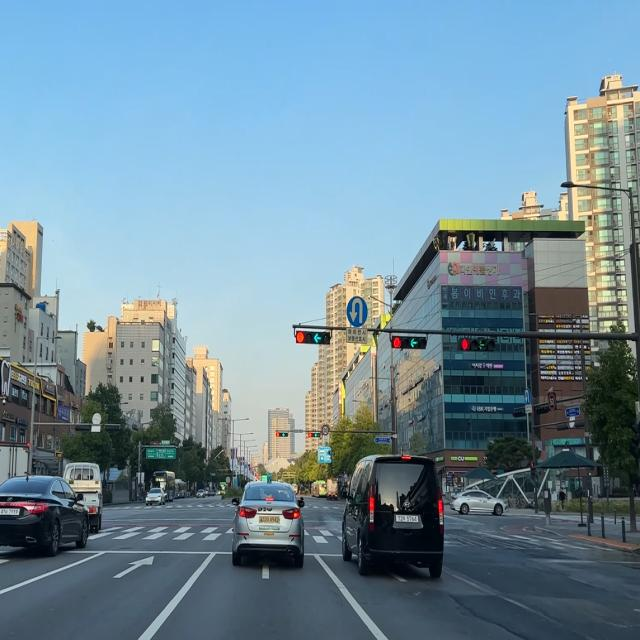Red Light: (296, 331, 304, 343), (276, 432, 280, 438), (308, 432, 312, 438)
